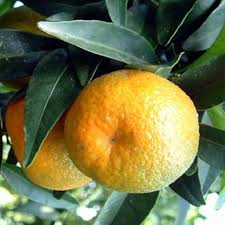orange: (58, 69, 206, 192), (2, 79, 100, 197)
